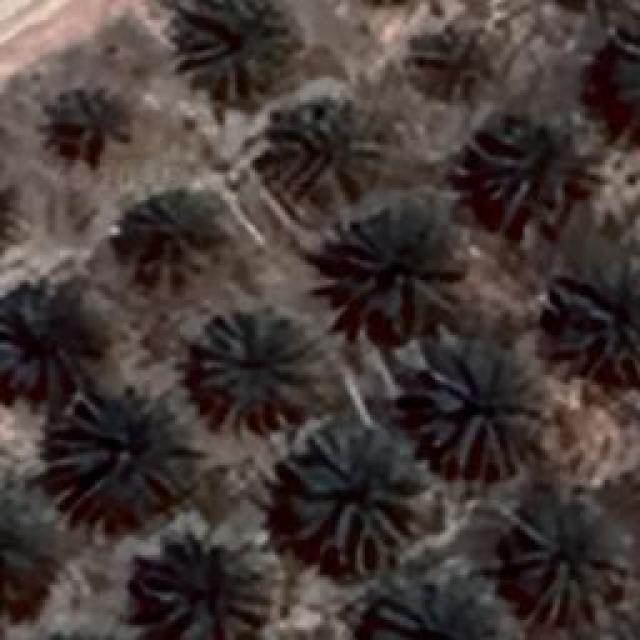PalmTree: (290, 428, 430, 570), (48, 380, 200, 505), (415, 344, 543, 478), (192, 310, 326, 432), (335, 212, 463, 338), (505, 500, 630, 625), (140, 528, 268, 638), (258, 100, 380, 202), (170, 0, 292, 98), (470, 115, 593, 210), (5, 282, 100, 386), (118, 190, 218, 288), (361, 582, 514, 640), (564, 260, 638, 378), (38, 78, 130, 162), (0, 488, 60, 616), (582, 20, 640, 142), (416, 17, 496, 92)
